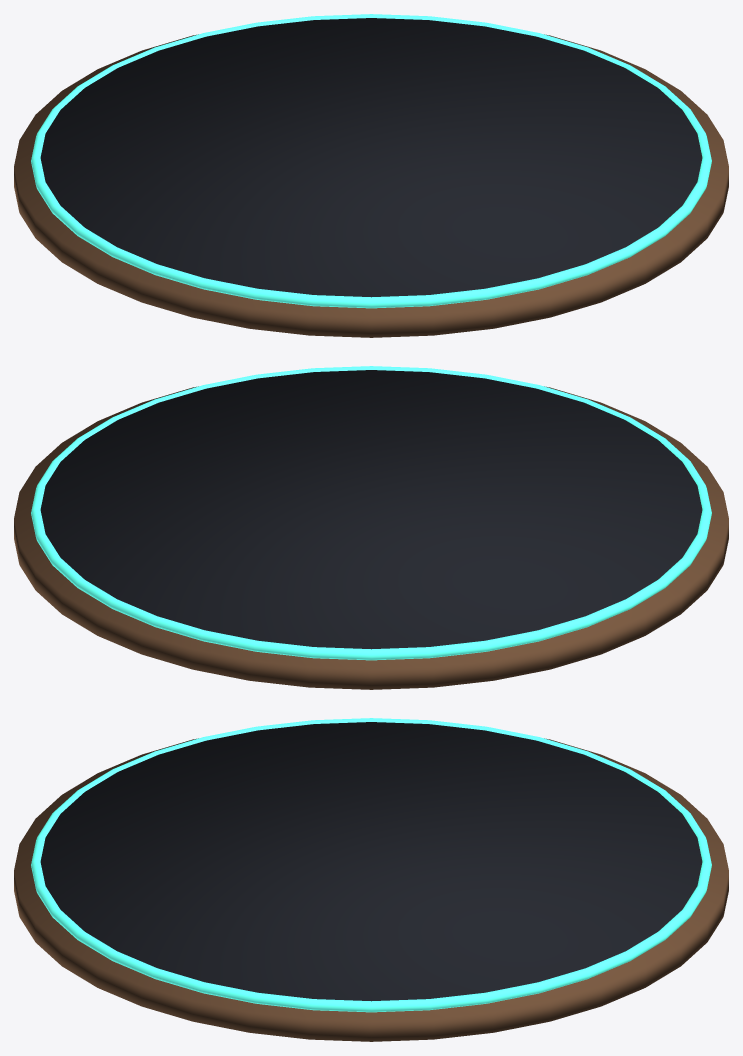
The model's file is Diagram_DisplayPlatform.fbx.
3 views of the same model, one above another, from view 1: azimuth 30°, elevation 25°; view 2: azimuth 150°, elevation 25°; view 3: azimuth 270°, elevation 25° (orthographic).
Parts seen in each view (by area): view 1: Platform_Stage, Platform_Base, Platform_GlowRim; view 2: Platform_Stage, Platform_Base, Platform_GlowRim; view 3: Platform_Stage, Platform_Base, Platform_GlowRim.
Part boxes in pixels (x1,y1,x2,y2): Platform_Stage: (40,18,702,297); Platform_Base: (14,34,728,337); Platform_GlowRim: (31,14,711,308); Platform_Stage: (40,370,702,649); Platform_Base: (14,386,728,689); Platform_GlowRim: (31,366,711,660); Platform_Stage: (40,722,702,1001); Platform_Base: (14,738,728,1041); Platform_GlowRim: (31,718,711,1012).
Size of the model in its own units: 38 by 1.79 by 38.
